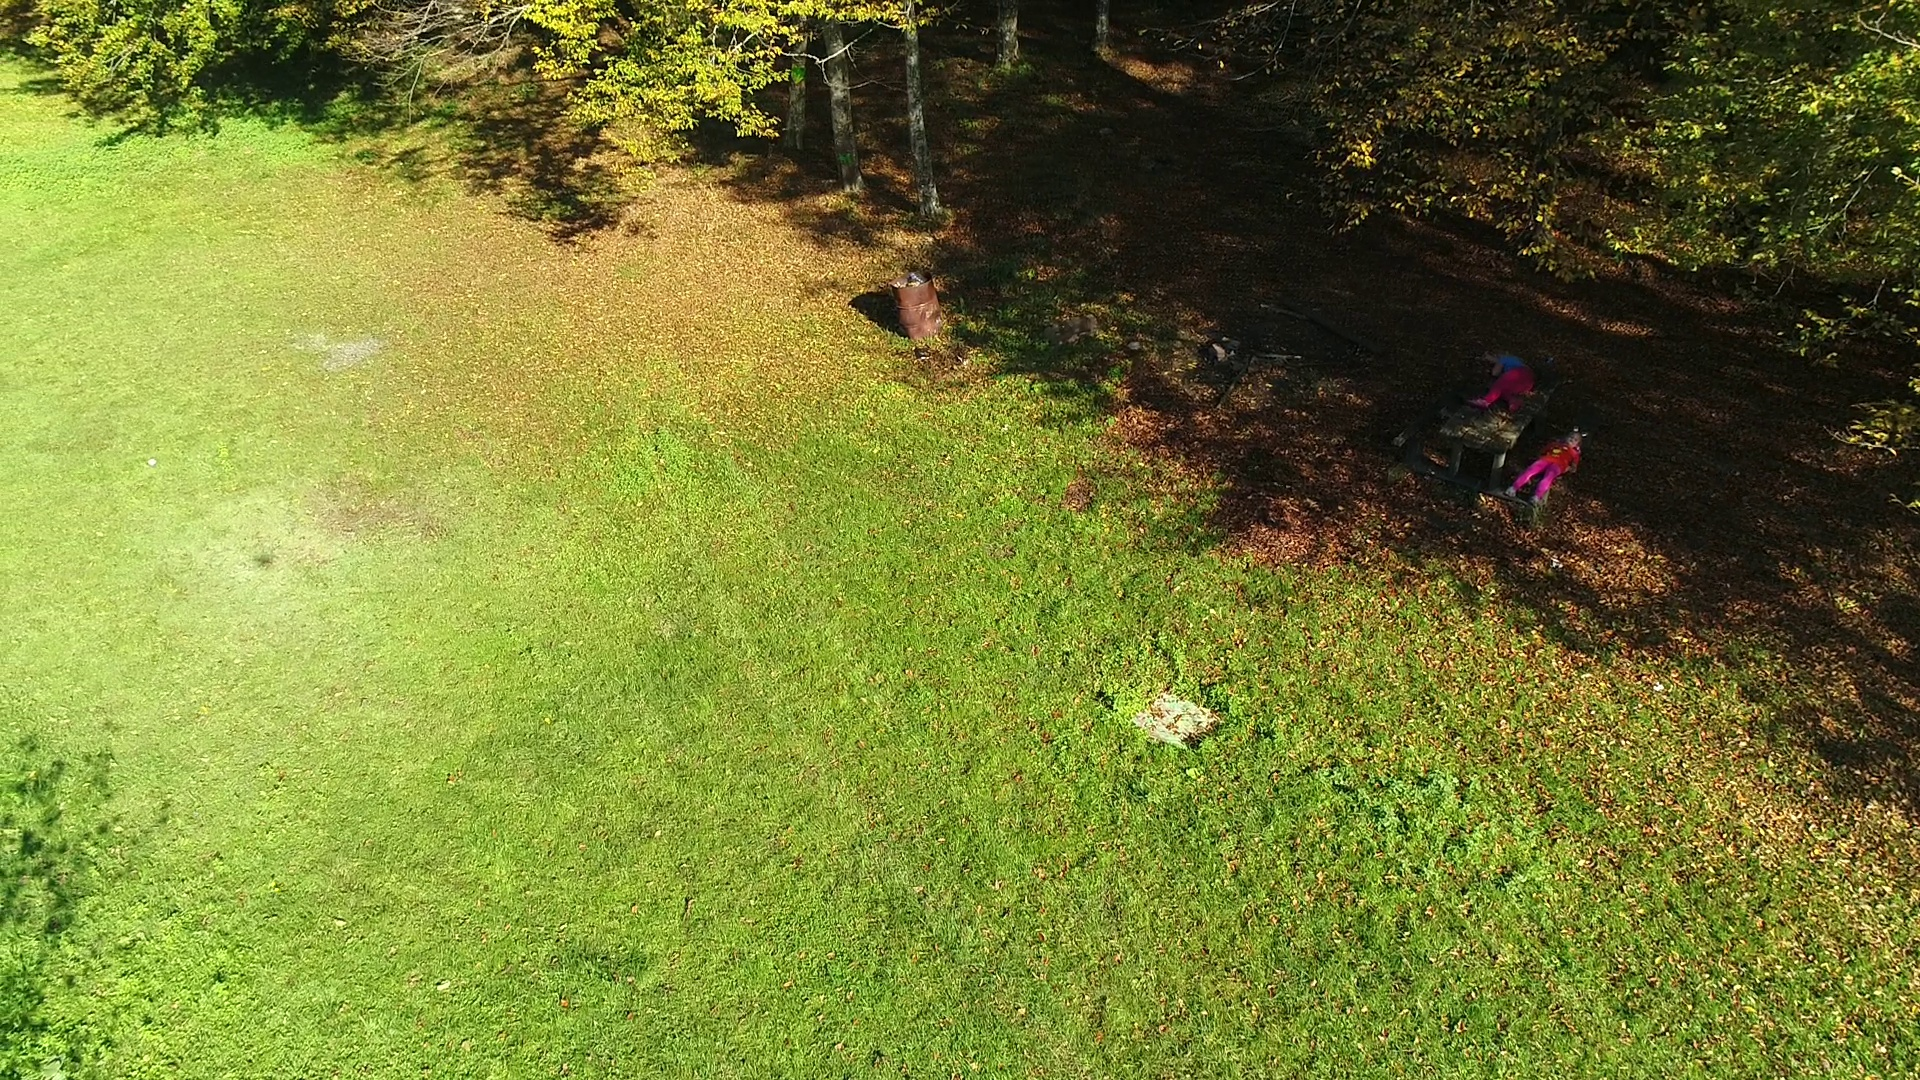person: (1503, 431, 1584, 505), (1467, 347, 1533, 412)
